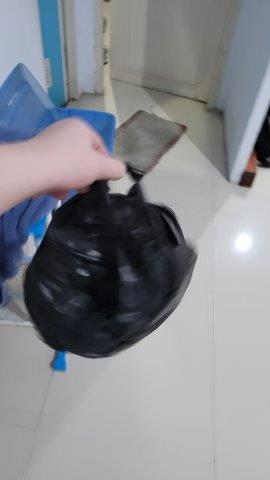plastik: (27, 175, 200, 365)
